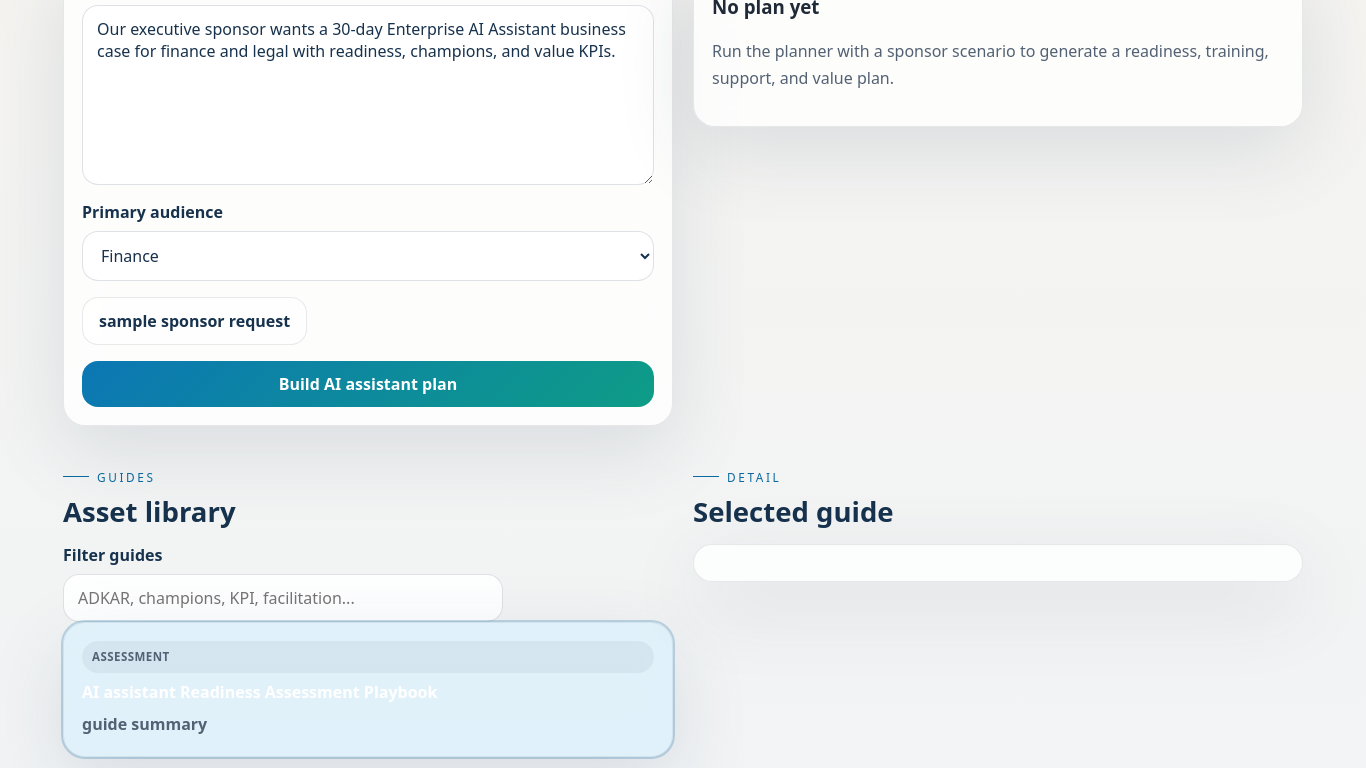
Test case: App › runs planner and rollout packet preview flows
(page scrolled)
Step 1. Click the button "Build AI assistant plan" → (368, 384), box 82,362 -> 654,408
(page scrolled)
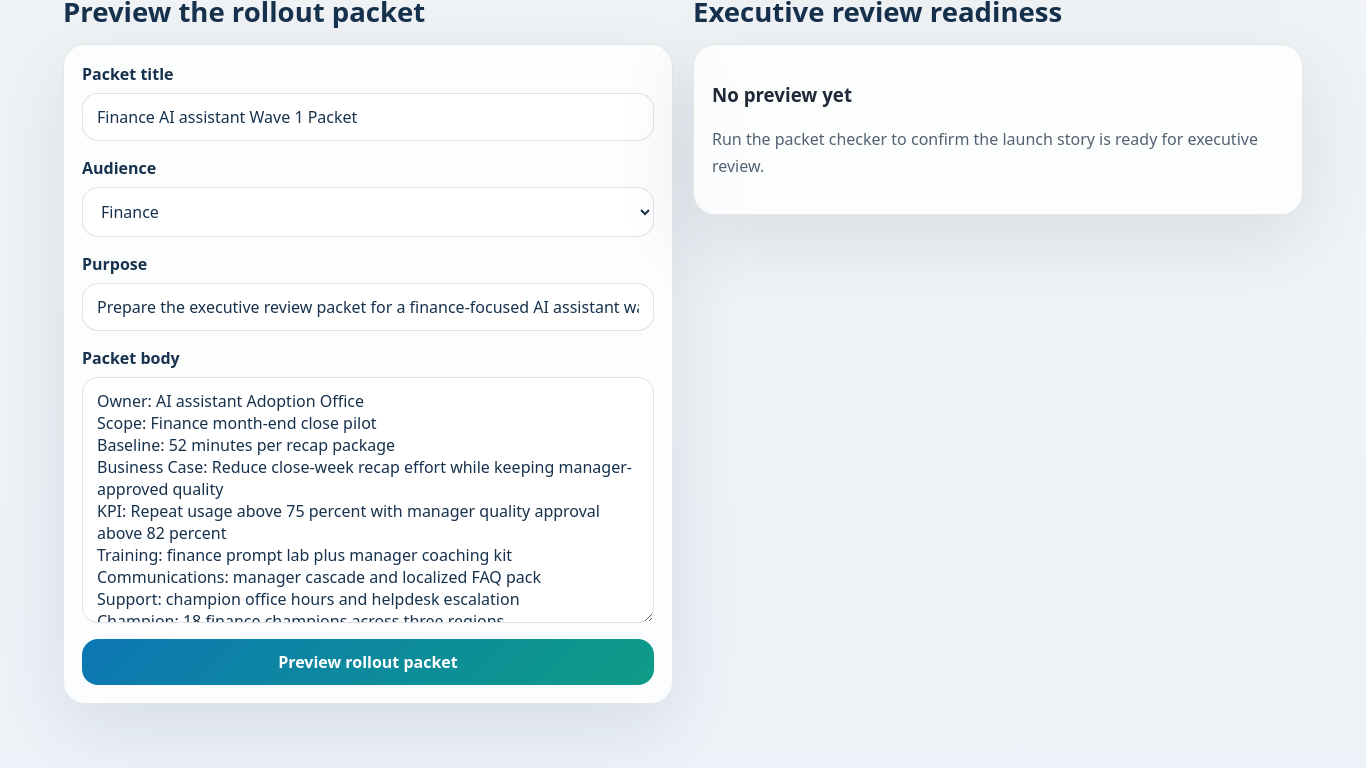
Step 2. Click the button "Preview rollout packet" → (368, 662), box 82,639 -> 654,685
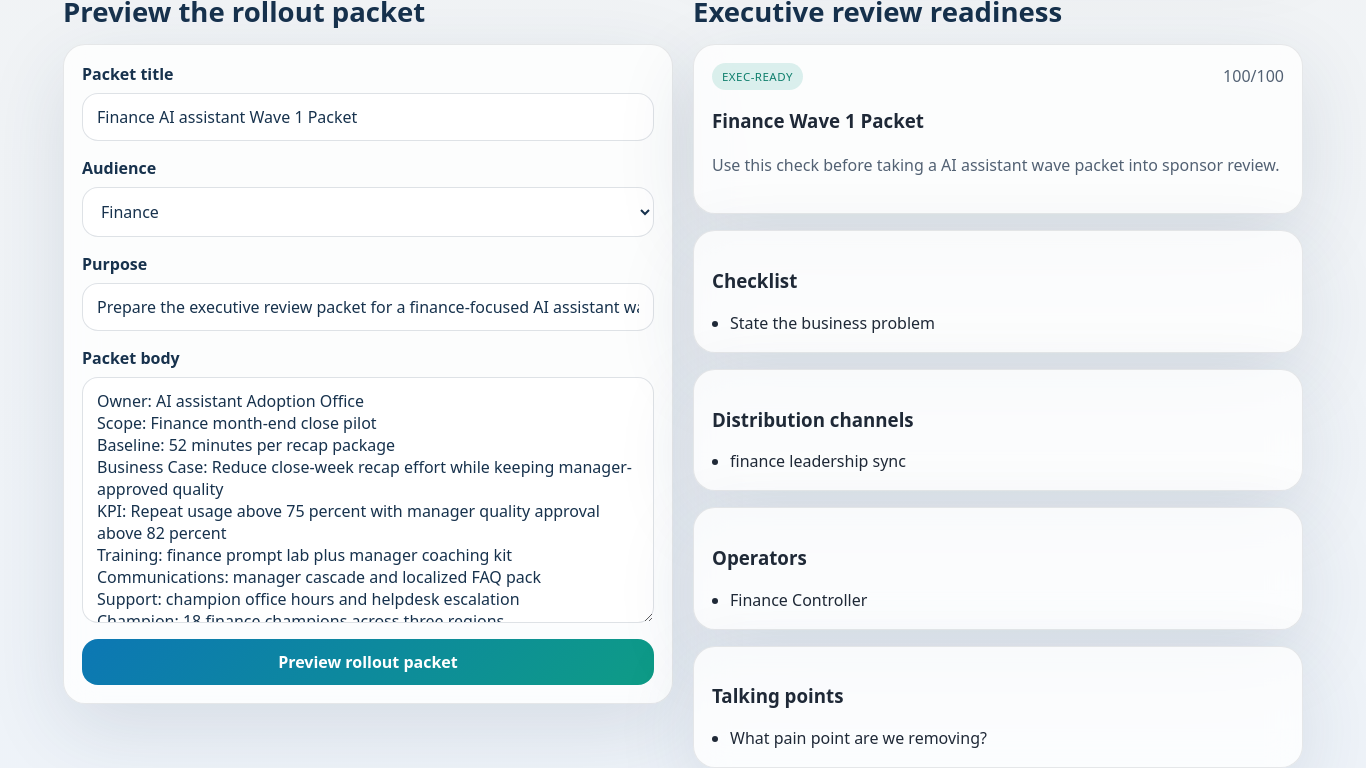
Expected: the text "exec-ready" is shown, 712,63 -> 803,90
Expected: the text "100/100" is shown, 1223,65 -> 1284,87
